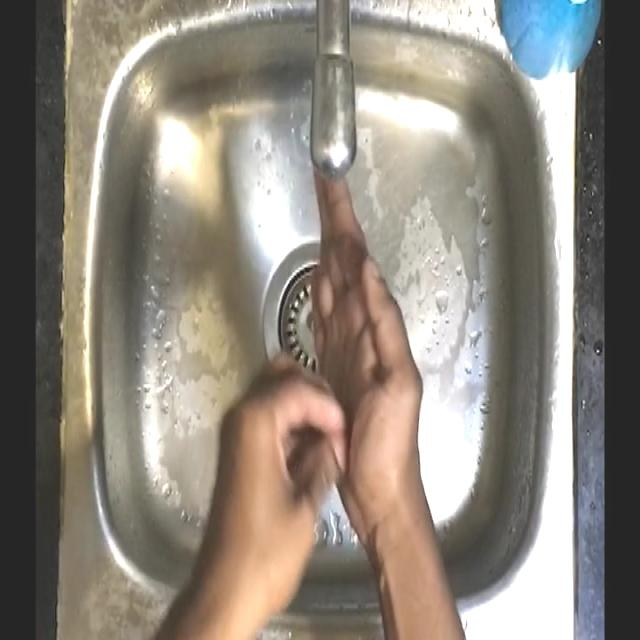step_6: (206, 153, 422, 561)
